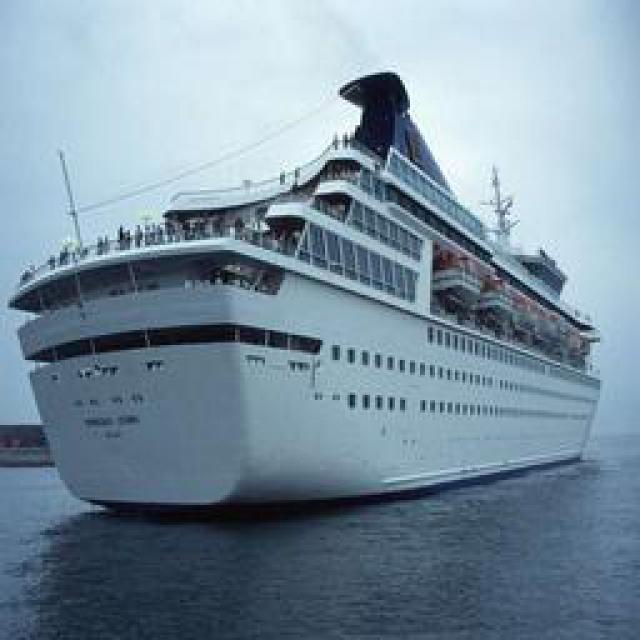Ship: (20, 54, 595, 519)
